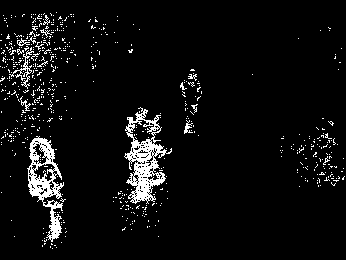person: (23, 135, 69, 248), (178, 68, 204, 140)
